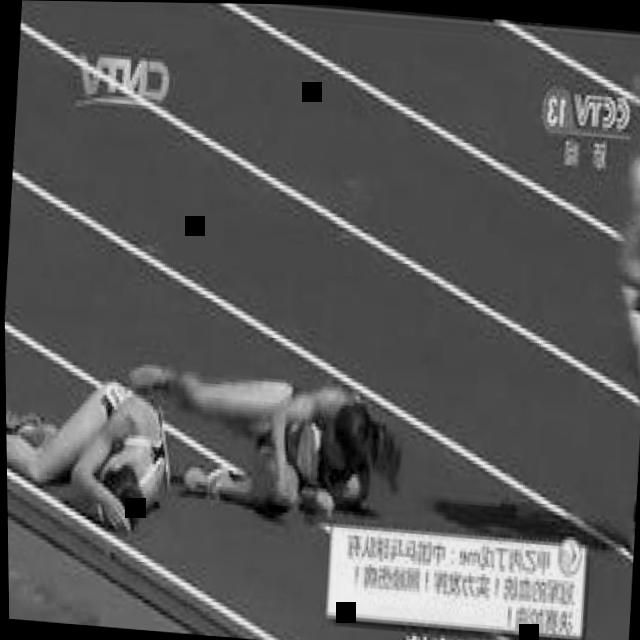Fall-Detected: (4, 338, 193, 560)
